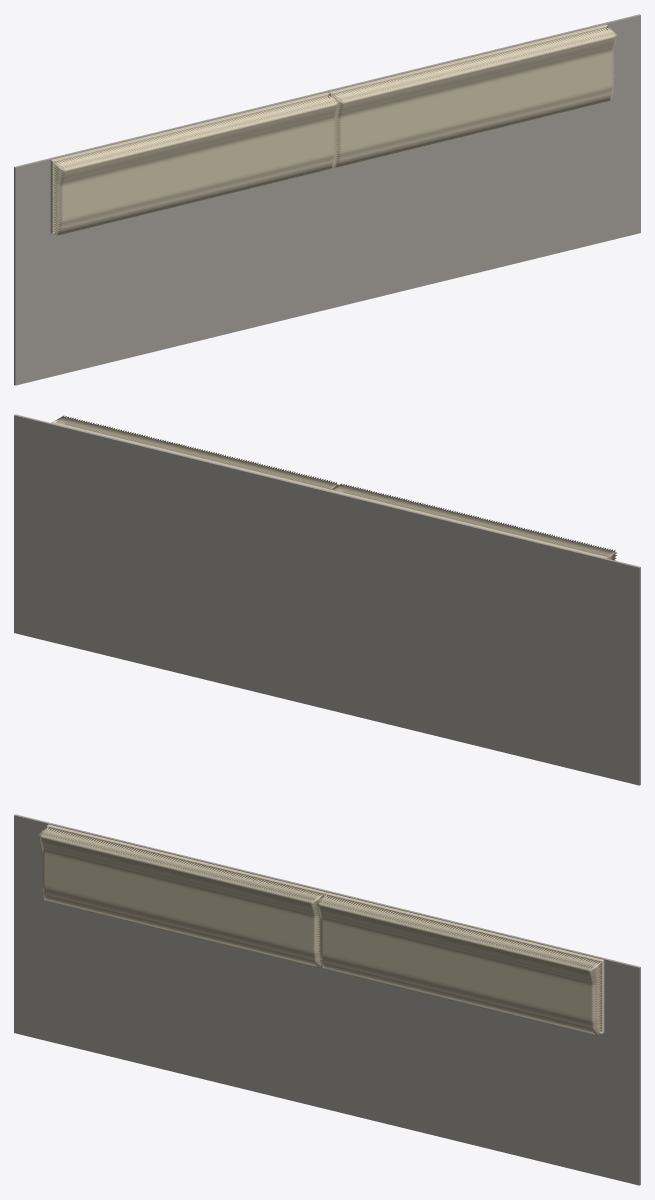
The model's file is terilgan.glb.
3 views of the same model, one above another, from view 1: azimuth 30°, elevation 25°; view 2: azimuth 150°, elevation 25°; view 3: azimuth 330°, elevation 25° (orthographic).
Visible parts, largest first — view 1: Devor, t0, t1; view 2: Devor, t0, t1; view 3: Devor, t1, t0.
Part boxes in pixels (x1=…): Devor: x1=14, y1=14, x2=640, y2=385; t0: x1=50, y1=92, x2=338, y2=236; t1: x1=328, y1=24, x2=616, y2=168; Devor: x1=14, y1=414, x2=640, y2=785; t0: x1=329, y1=483, x2=616, y2=560; t1: x1=51, y1=415, x2=338, y2=490; Devor: x1=14, y1=814, x2=640, y2=1185; t1: x1=316, y1=892, x2=604, y2=1036; t0: x1=38, y1=824, x2=326, y2=968.
Size of the model in its own units: 2.71 by 0.9 by 0.0971.
